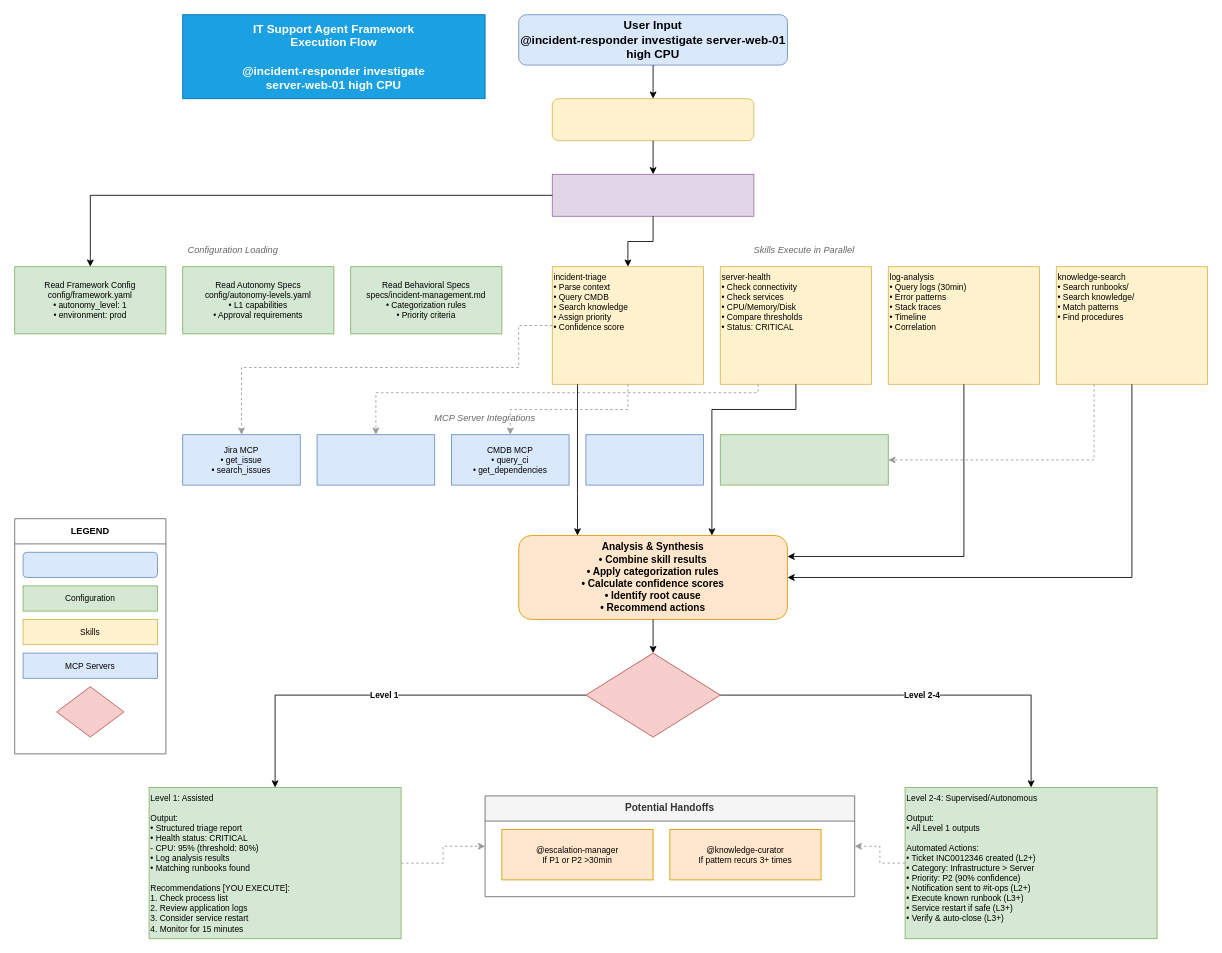
Some shapes in this 1222 by 953 pixel diagram are drawn without their labels. The shapes that lost their labels are listed below. From the top down, each one's centre as x and y in pixels, then its label:
At [652,119]: "GitHub Copilot Extension".
At [652,194]: "Load Agent Definition .github/agents/incident-responder.agent.md".
At [375,459]: "Monitoring MCP • get_metrics • get_logs • get_alerts".
At [644,459]: "Slack MCP • get_channels • get_messages".
At [803,459]: "Knowledge Base runbooks/ | knowledge/ specs/ | templates/".
At [90,564]: "User Input".
At [90,711]: "Decision".
At [652,694]: "Check Autonomy Level".
